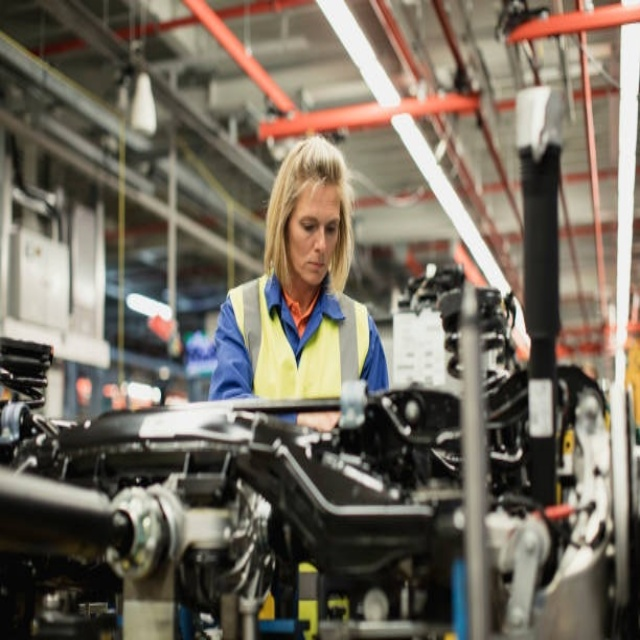Sin_gafas: (297, 209, 340, 245)
Sin_mascara: (302, 251, 330, 285)
